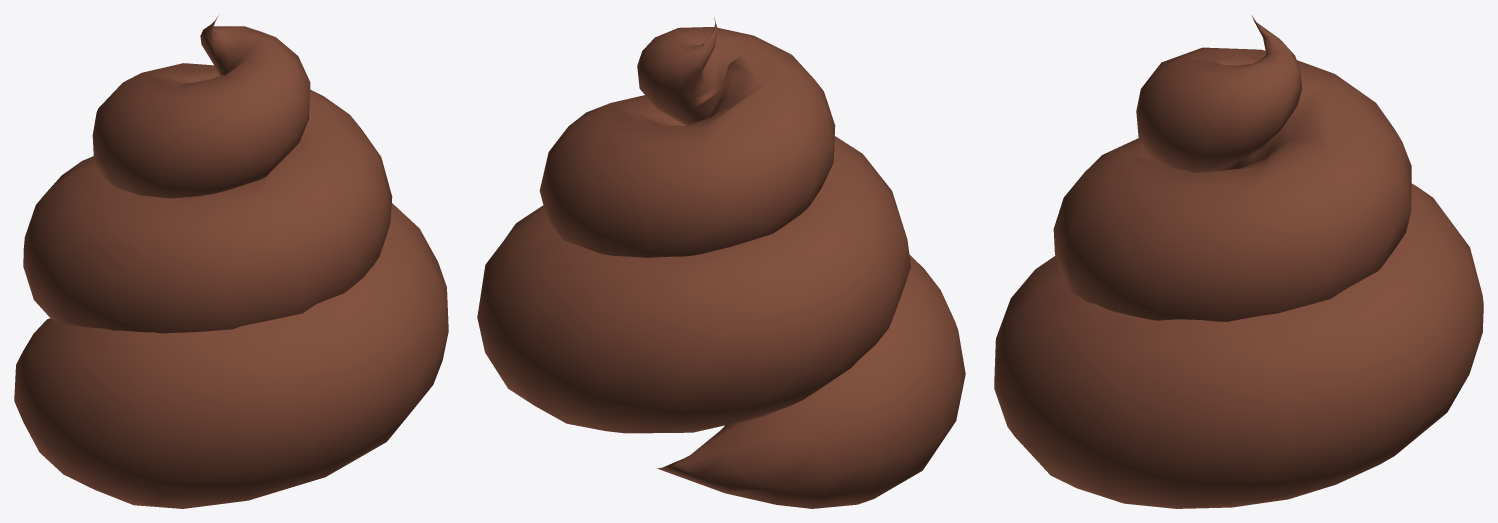
The model's file is Poop.fbx.
3 views of the same model, side by side, from view 1: azimuth 30°, elevation 25°; view 2: azimuth 150°, elevation 25°; view 3: azimuth 270°, elevation 25° (orthographic). The views are drawn at different scales.
Visible parts, largest first — view 1: Recorrido.001; view 2: Recorrido.001; view 3: Recorrido.001.
Boxes of the visible parts, x1,y1,x2,y2 form: Recorrido.001: (14,15,448,508); Recorrido.001: (477,18,965,508); Recorrido.001: (994,15,1483,508).
Bounding box in the file's own units: 341 × 360 × 332.
